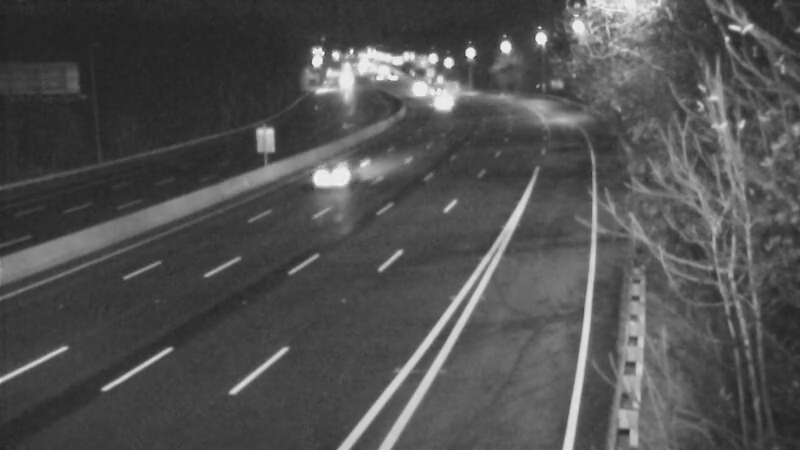vehicle: (292, 133, 372, 213), (393, 60, 443, 110), (424, 64, 474, 114), (417, 79, 467, 129)
